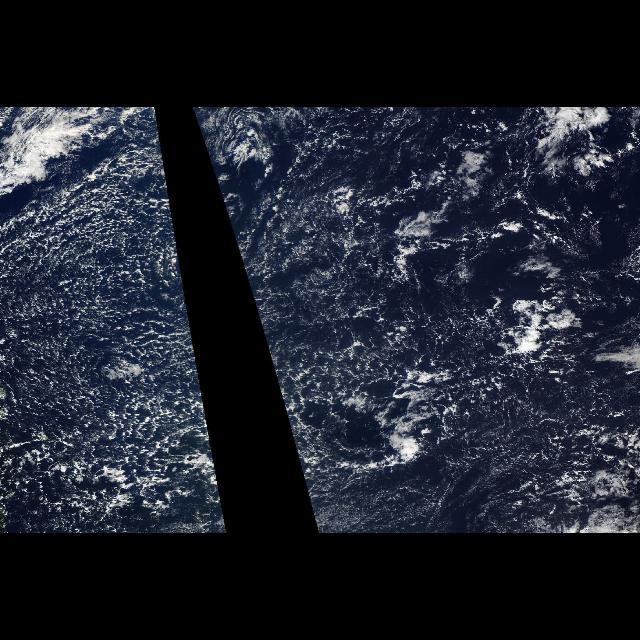Gravel: (205, 148, 629, 524), (11, 148, 227, 524)
